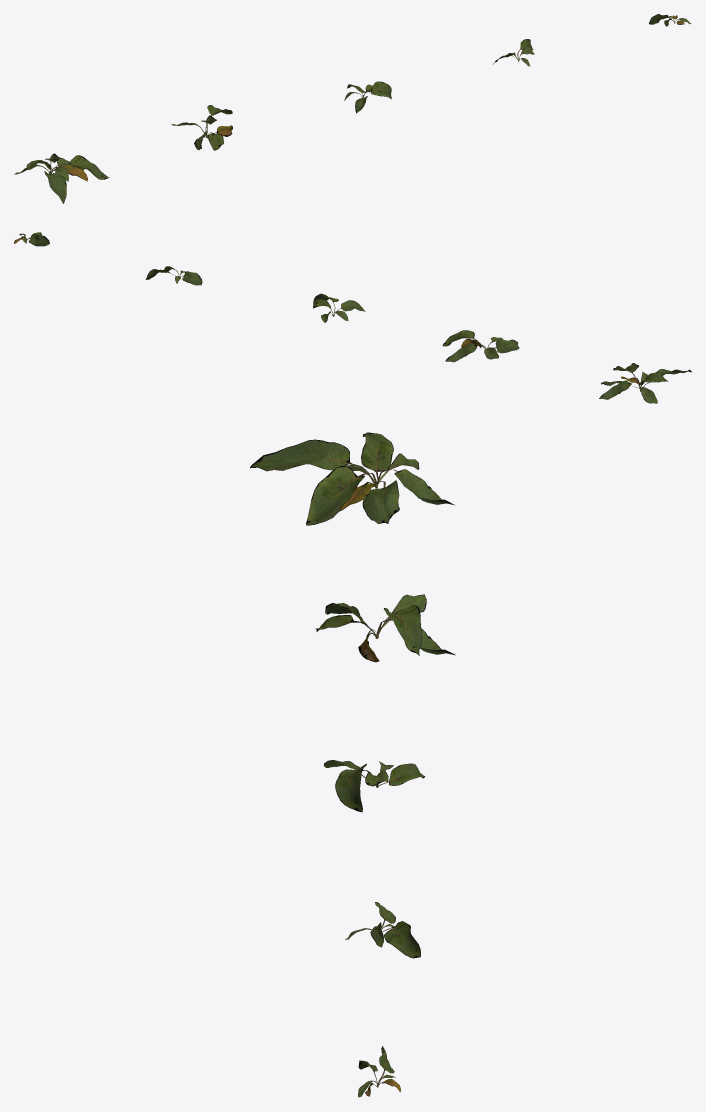
The model's file is weed_plant_02_1k_lo.glb.
3 renders of one model, top to bottom at view 1: azimuth 30°, elevation 25°; view 2: azimuth 150°, elevation 25°; view 3: azimuth 270°, elevation 25°, orthographic. The views are drawn at different scales.
Visible parts, largest first — view 1: weed_plant_02_a_LOD0, weed_plant_02_b_LOD0, weed_plant_02_c_LOD0, weed_plant_02_d_LOD0; view 2: weed_plant_02_a_LOD0, weed_plant_02_b_LOD0, weed_plant_02_c_LOD0, weed_plant_02_d_LOD0, weed_plant_02_e_LOD0; view 3: weed_plant_02_a_LOD0, weed_plant_02_b_LOD0, weed_plant_02_c_LOD0, weed_plant_02_d_LOD0.
Part boxes in pixels (x1,y1,x2,y2): weed_plant_02_a_LOD0: (14, 153, 109, 203); weed_plant_02_b_LOD0: (171, 105, 232, 150); weed_plant_02_c_LOD0: (344, 81, 391, 113); weed_plant_02_d_LOD0: (493, 39, 534, 66); weed_plant_02_a_LOD0: (599, 363, 691, 403); weed_plant_02_b_LOD0: (442, 330, 519, 362); weed_plant_02_c_LOD0: (313, 293, 365, 322); weed_plant_02_d_LOD0: (145, 266, 202, 285); weed_plant_02_e_LOD0: (14, 232, 49, 246); weed_plant_02_a_LOD0: (250, 432, 454, 525); weed_plant_02_b_LOD0: (315, 594, 455, 662); weed_plant_02_c_LOD0: (323, 760, 425, 812); weed_plant_02_d_LOD0: (345, 902, 420, 958).
Bounding box in the file's own units: 2.13 × 0.0751 × 0.2909.
1 material, 1 textured.
